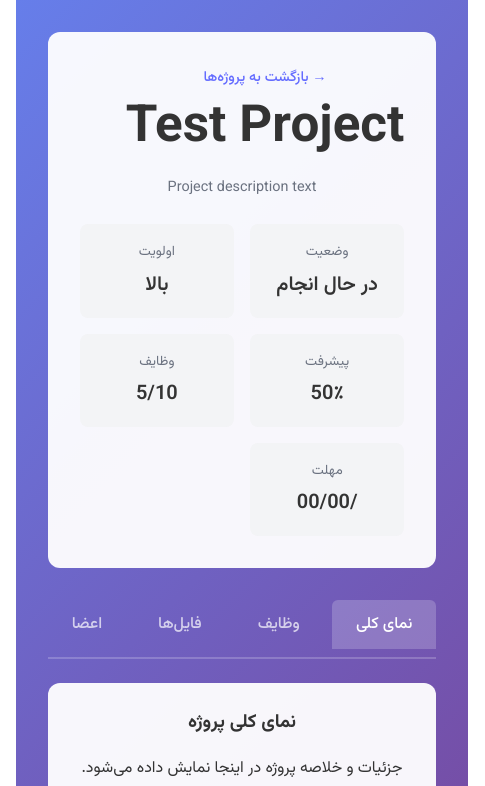
Test: ProjectDetail › switches to members tab when clicked
Expected: the heading "Test Project" is shown, 126,98 -> 404,160
Click the button "اعضا" at (87, 624), box 48,600 -> 126,649
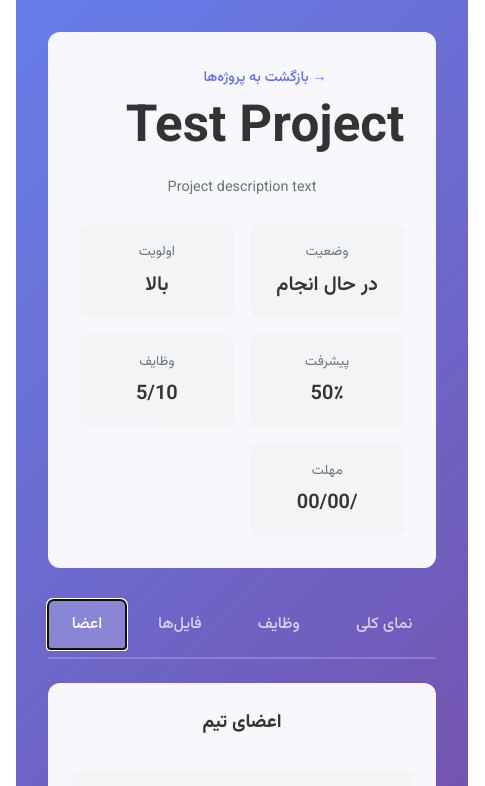
Expected: the heading "اعضای تیم" is shown, 202,708 -> 282,737
